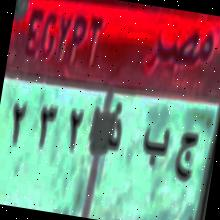2: (4, 94, 30, 154), (62, 101, 86, 161)
3: (31, 100, 58, 163)
baa: (134, 114, 174, 188)
jeem: (170, 128, 203, 193)
zaal: (103, 98, 128, 162)
